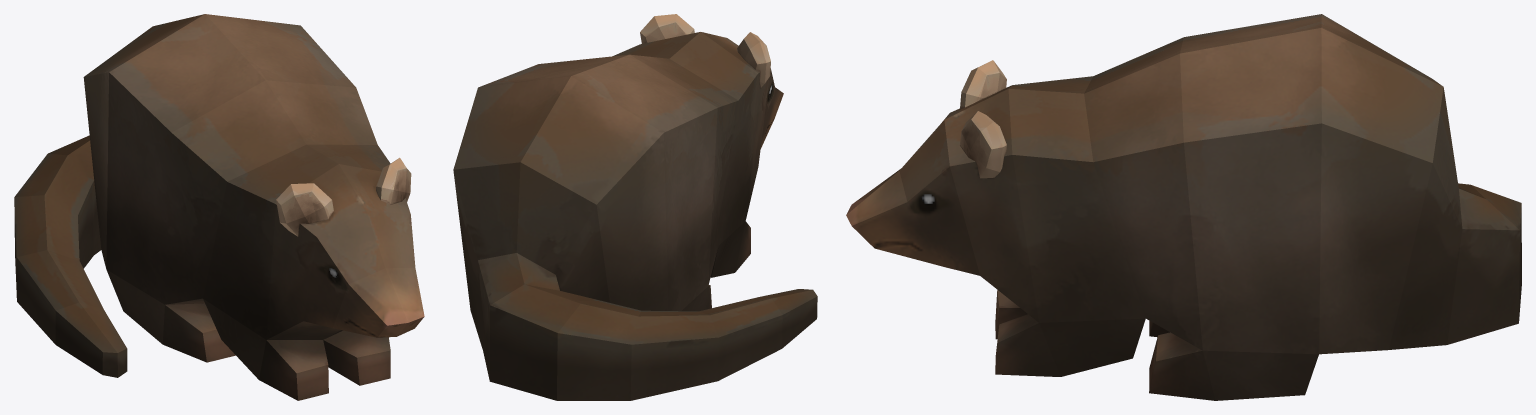
Rendered from PanayCloudRunner.fbx.
3 views of the same model, side by side, from view 1: azimuth 30°, elevation 25°; view 2: azimuth 150°, elevation 25°; view 3: azimuth 270°, elevation 25° (orthographic). The views are drawn at different scales.
Visible parts, largest first — view 1: PanayCloudRunner; view 2: PanayCloudRunner; view 3: PanayCloudRunner.
Boxes of the visible parts, x1,y1,x2,y2 form: PanayCloudRunner: [14, 14, 424, 400]; PanayCloudRunner: [453, 14, 817, 400]; PanayCloudRunner: [846, 14, 1521, 400].
Size of the model in its own units: 78.52 by 73.39 by 139.
